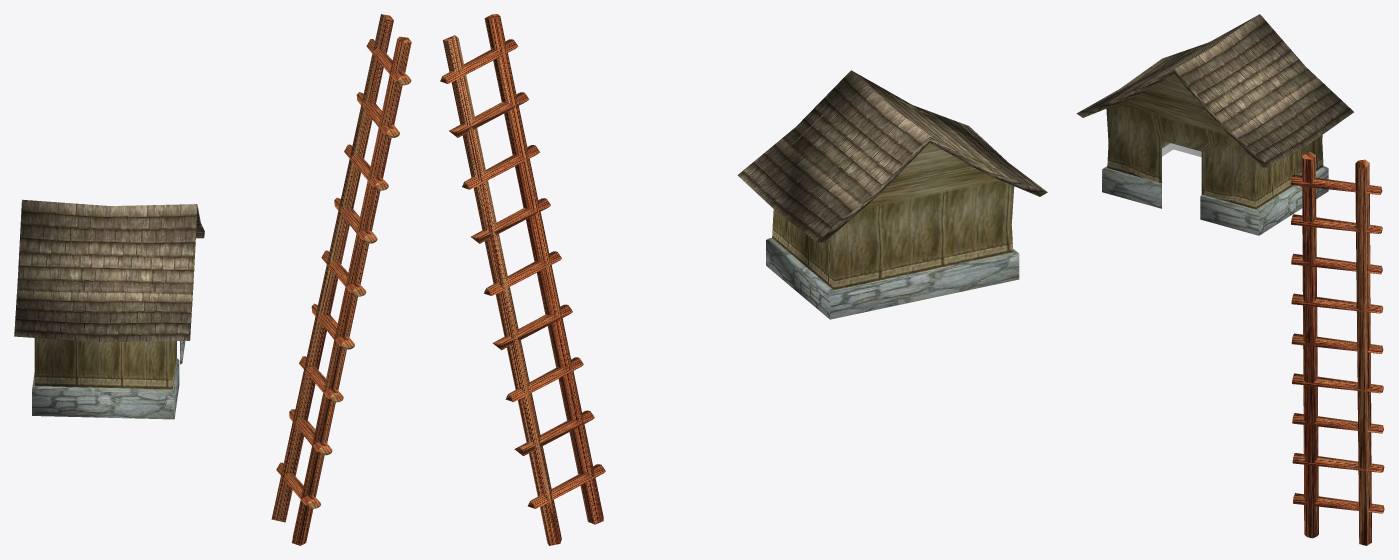
The model's file is lom_model3.fbx.
The picture shows the model from 3 angles, left to right: view 1: azimuth 30°, elevation 25°; view 2: azimuth 150°, elevation 25°; view 3: azimuth 270°, elevation 25°; orthographic projection. The views are drawn at different scales.
Parts seen in each view (by area): view 1: chatka3, zebrik3; view 2: chatka3, zebrik3; view 3: chatka3, zebrik3.
Part boxes in pixels (left/top/right/bottom): chatka3: left=14, top=199, right=204, bottom=419; zebrik3: left=271, top=14, right=411, bottom=545; chatka3: left=737, top=70, right=1047, bottom=319; zebrik3: left=440, top=14, right=605, bottom=545; chatka3: left=1076, top=14, right=1353, bottom=235; zebrik3: left=1290, top=152, right=1384, bottom=545.
Size of the model in its own units: 157 by 148 by 96.09.
2 materials, 2 textured.
